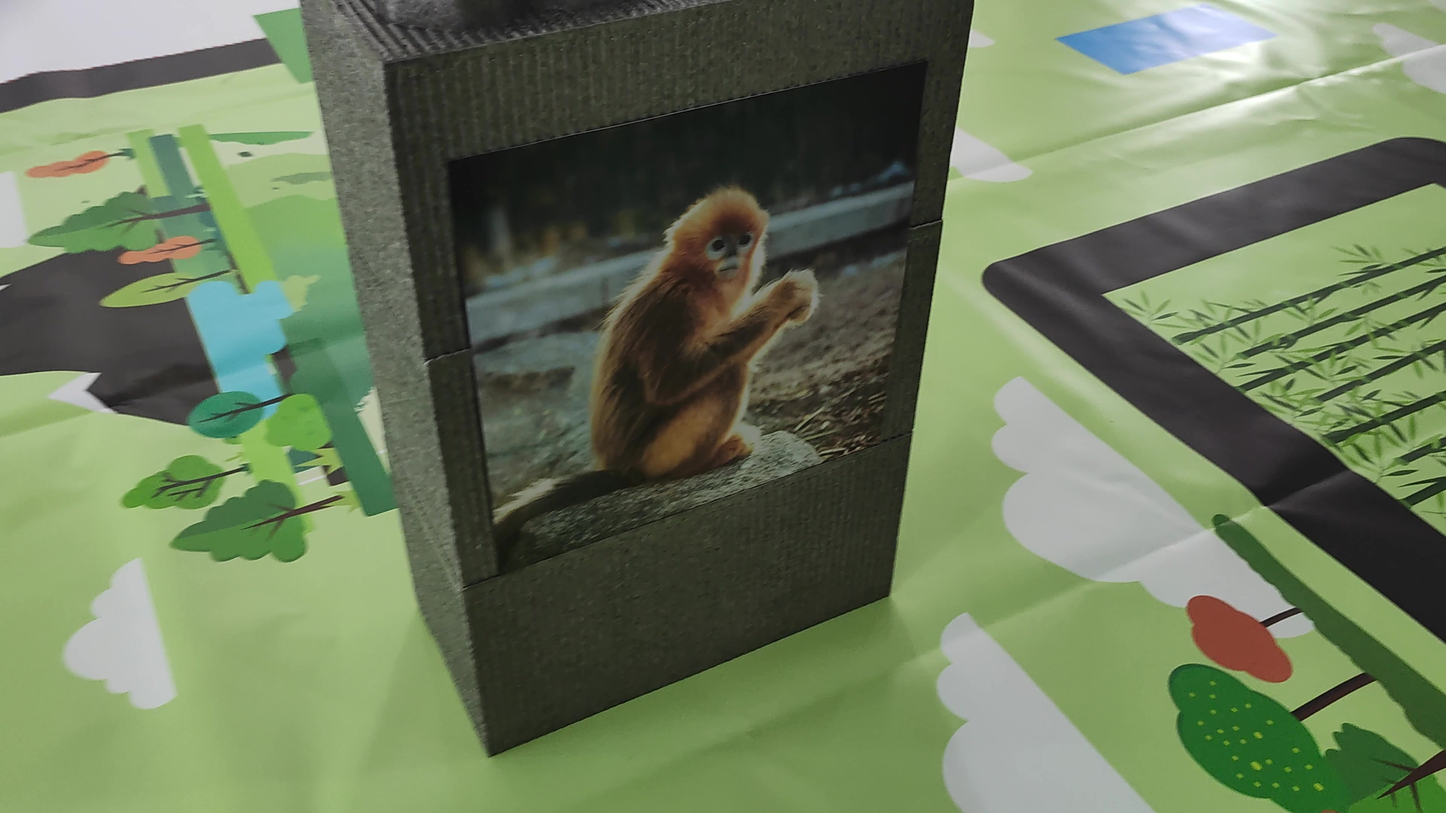monkey: (565, 186, 865, 487)
